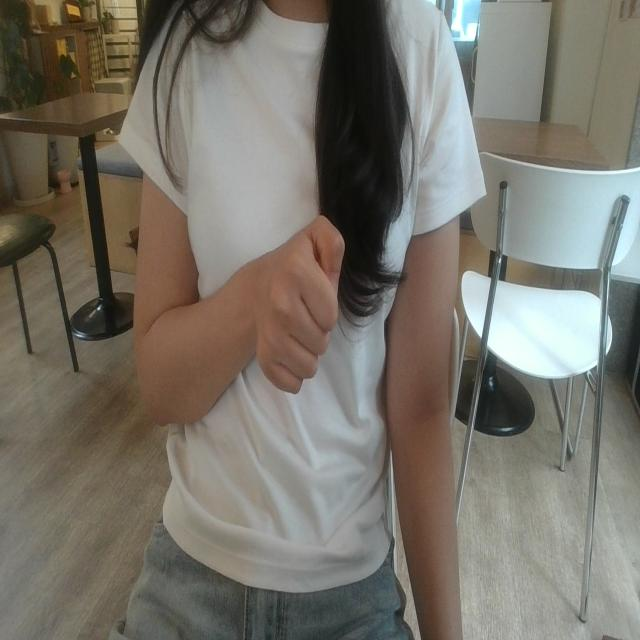hieut: (230, 166, 358, 434)
